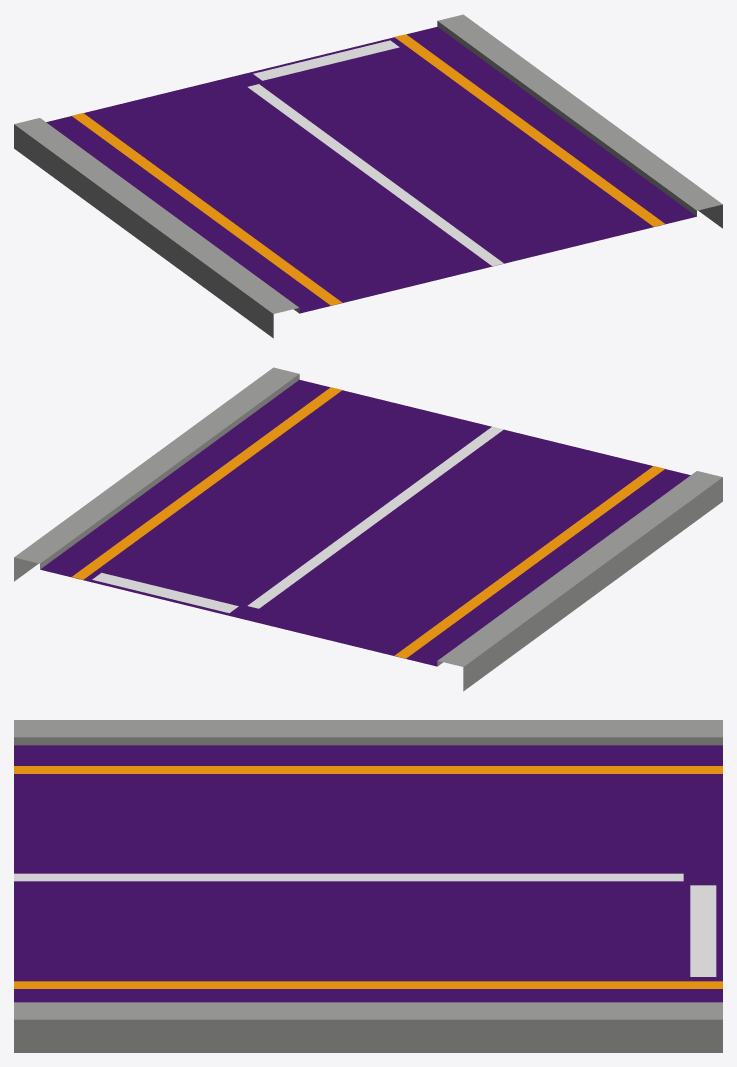
The model's file is Road_C_15.fbx.
3 renders of one model, top to bottom at view 1: azimuth 30°, elevation 25°; view 2: azimuth 150°, elevation 25°; view 3: azimuth 270°, elevation 25°, orthographic. The views are drawn at different scales.
Parts seen in each view (by area): view 1: Road_C_15; view 2: Road_C_15; view 3: Road_C_15.
Boxes of the visible parts, left/top/right/bottom form: Road_C_15: left=14, top=14, right=722, bottom=338; Road_C_15: left=14, top=367, right=722, bottom=691; Road_C_15: left=14, top=720, right=722, bottom=1052.
Size of the model in its own units: 800 by 41.48 by 800.
